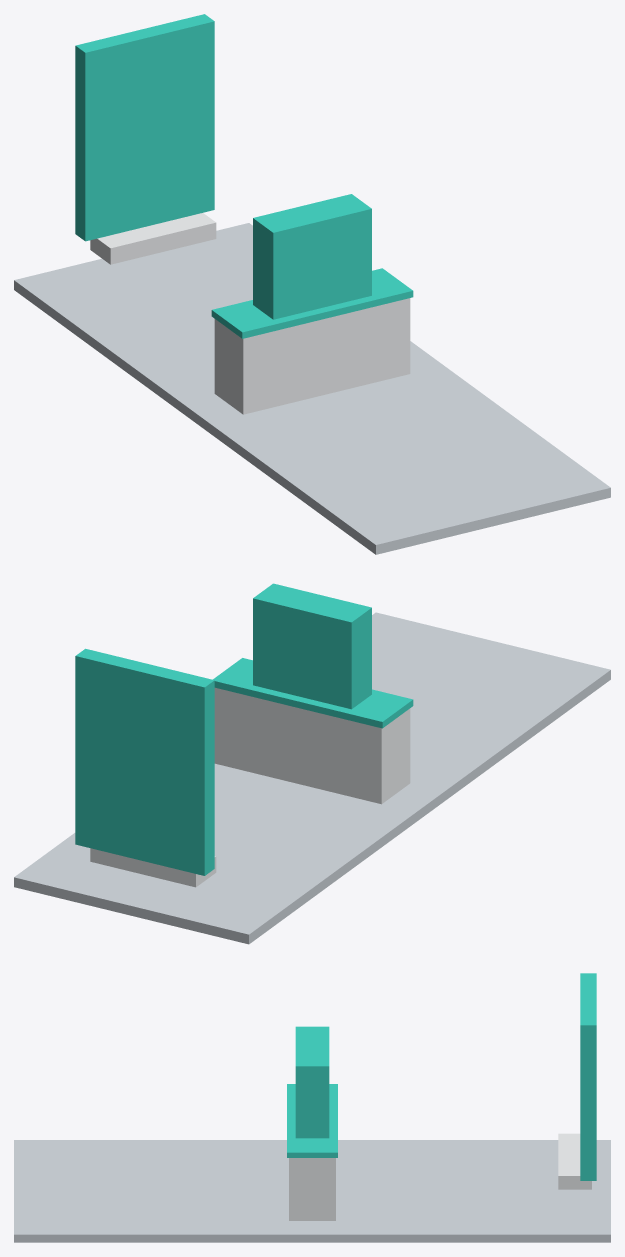
The picture shows the model from 3 angles, top to bottom: view 1: azimuth 30°, elevation 25°; view 2: azimuth 150°, elevation 25°; view 3: azimuth 270°, elevation 25°; orthographic projection. The views are drawn at different scales.
Visible parts, largest first — view 1: Exhibition Booth Concept; view 2: Exhibition Booth Concept; view 3: Exhibition Booth Concept.
Boxes of the visible parts, bbox=[...] form: Exhibition Booth Concept: bbox=[14, 14, 610, 554]; Exhibition Booth Concept: bbox=[14, 583, 610, 944]; Exhibition Booth Concept: bbox=[14, 973, 610, 1242].
Size of the model in its own units: 3 by 2.9 by 8.
